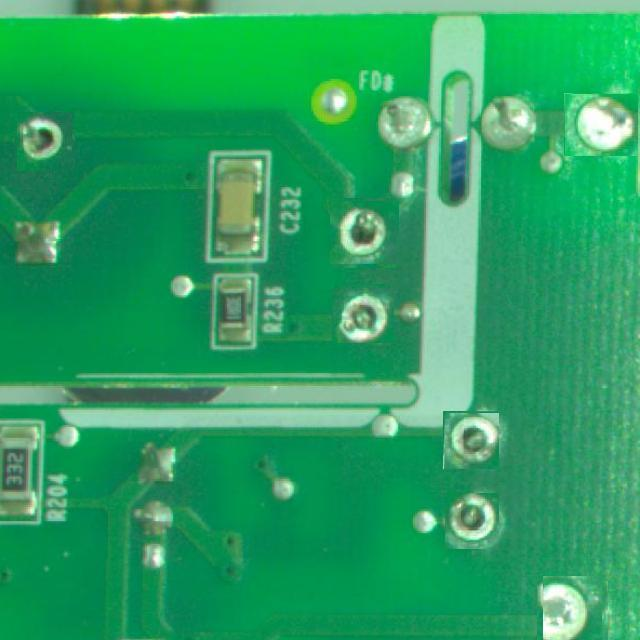lack_of_part: (564, 93, 638, 156), (331, 200, 398, 266), (540, 578, 605, 640), (333, 286, 392, 344), (16, 112, 74, 170), (444, 412, 499, 469), (444, 494, 499, 549)
